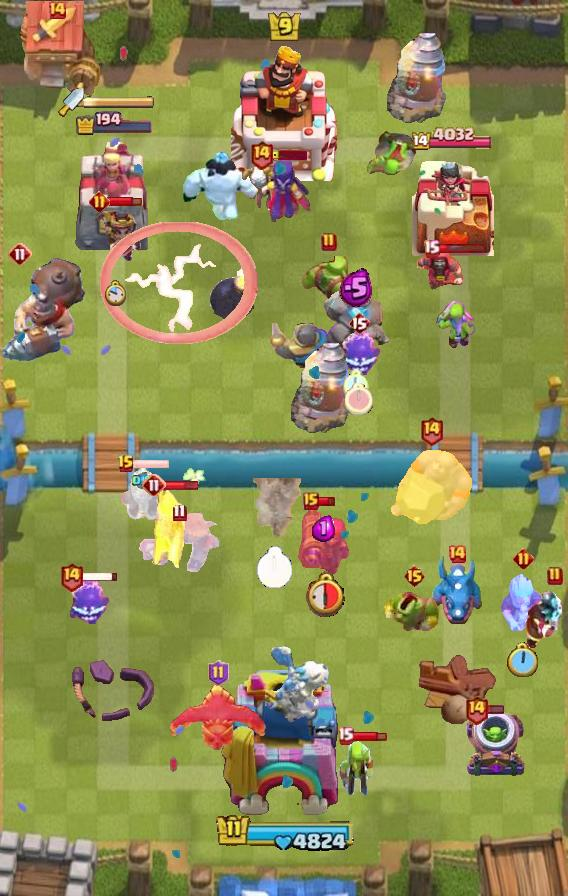bar: (437, 243, 487, 254), (133, 458, 170, 470), (352, 730, 387, 742), (107, 195, 142, 207), (82, 571, 119, 582), (164, 480, 199, 491), (271, 150, 307, 160), (486, 704, 505, 715), (317, 496, 336, 507)
bar-level: (464, 694, 489, 725), (59, 561, 84, 592), (419, 415, 444, 446), (249, 139, 274, 170), (142, 473, 166, 497), (8, 242, 32, 266), (403, 564, 426, 588), (208, 660, 229, 686), (348, 311, 370, 335), (513, 548, 534, 569), (89, 191, 110, 212), (447, 544, 467, 564), (47, 0, 67, 20), (117, 454, 135, 474), (337, 726, 354, 745), (423, 239, 440, 258), (547, 566, 563, 586), (321, 232, 337, 252), (303, 492, 319, 510), (172, 503, 187, 522)
bomb: (209, 260, 255, 319)
clock: (302, 570, 345, 617), (256, 546, 293, 589), (507, 642, 540, 680), (345, 383, 373, 415), (343, 369, 369, 399), (104, 280, 126, 307)
dagger-duchess-tower: (73, 140, 155, 256)
dagger-duchess-tower-bar: (84, 95, 156, 109)
dirt: (248, 478, 301, 544)
electro-dragon: (429, 554, 485, 628)
electro-spirit: (64, 578, 112, 624), (335, 329, 383, 375)
electro-wizard: (522, 591, 568, 651)
elixir: (339, 268, 373, 308), (312, 515, 335, 542), (132, 472, 152, 489)
firecracker-evolution: (297, 502, 349, 574)
goblin: (337, 741, 375, 799), (436, 298, 478, 350)
goblin-ball: (363, 130, 417, 178)
goblin-brawler: (301, 256, 357, 314), (384, 589, 444, 643)
golemite: (321, 290, 391, 358)
ice-wizard: (111, 464, 173, 524), (499, 573, 547, 633)
king-tower: (219, 670, 349, 826), (231, 43, 337, 181)
king-tower-bar: (212, 813, 357, 854)
knight: (269, 323, 335, 369)
little-prince: (88, 205, 143, 267)
mortar-evolution: (463, 709, 527, 779)
musketeer: (149, 483, 187, 581)
queen-tower: (412, 156, 494, 256)
tower-bar: (412, 126, 495, 153), (75, 111, 154, 136)
valkyrie-evolution: (139, 510, 219, 577)
witch: (240, 160, 310, 222)
wizard: (415, 246, 465, 296)
